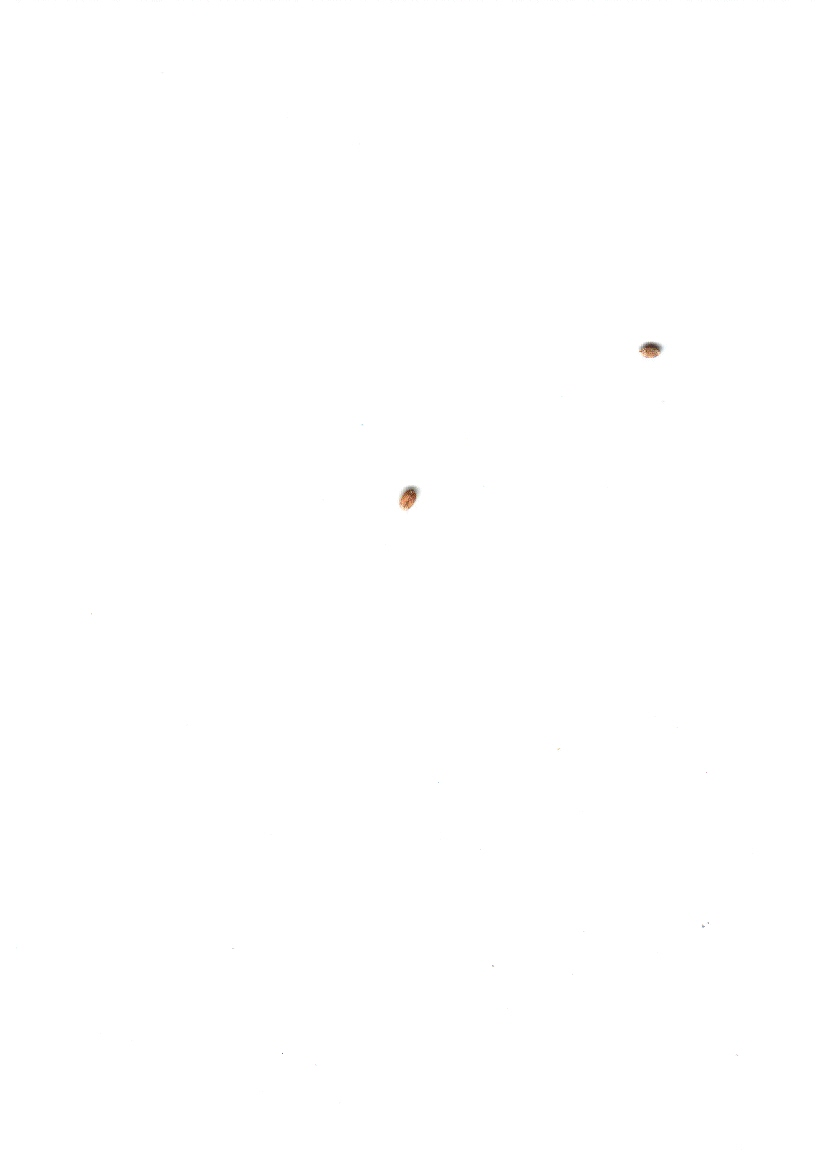grains: (386, 477, 429, 523), (631, 325, 670, 373)
